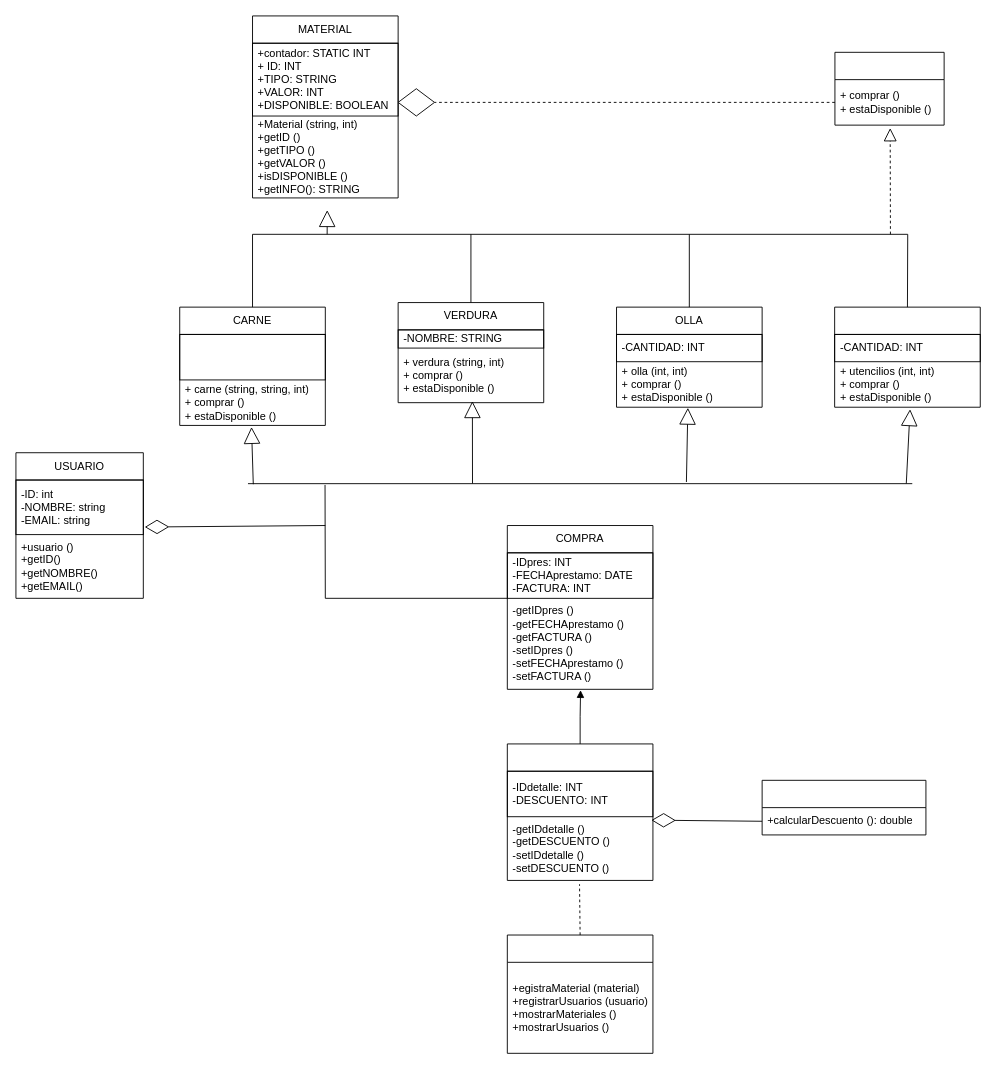
This 996x1069 diagram has some shape labels left out. Here are the shapes that lost their labels. From the top down, the box of each, then its label:
(834, 51, 944, 125): <<interface>> COMPRABLE
(179, 334, 325, 380): -NOMBRE: STRING -FecVen: DATE
(834, 306, 980, 407): UTENSILIOS
(506, 743, 653, 880): DetalleCOMPRA
(761, 779, 926, 835): CalculadoraDESCUENTO
(506, 934, 653, 1053): TiendaService
